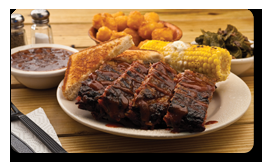sandwich: (11, 102, 68, 153)
soup: (61, 34, 134, 100)
sushi: (11, 44, 79, 89)
